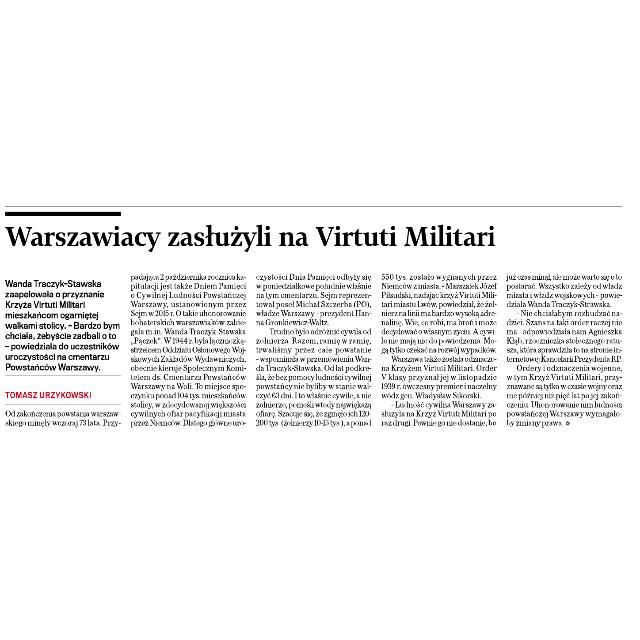author: (5, 386, 93, 399)
body: (126, 271, 248, 429), (502, 272, 624, 428), (252, 270, 372, 428), (378, 272, 498, 426), (4, 407, 124, 429)
lead: (2, 277, 122, 373)
title: (6, 218, 498, 252)
